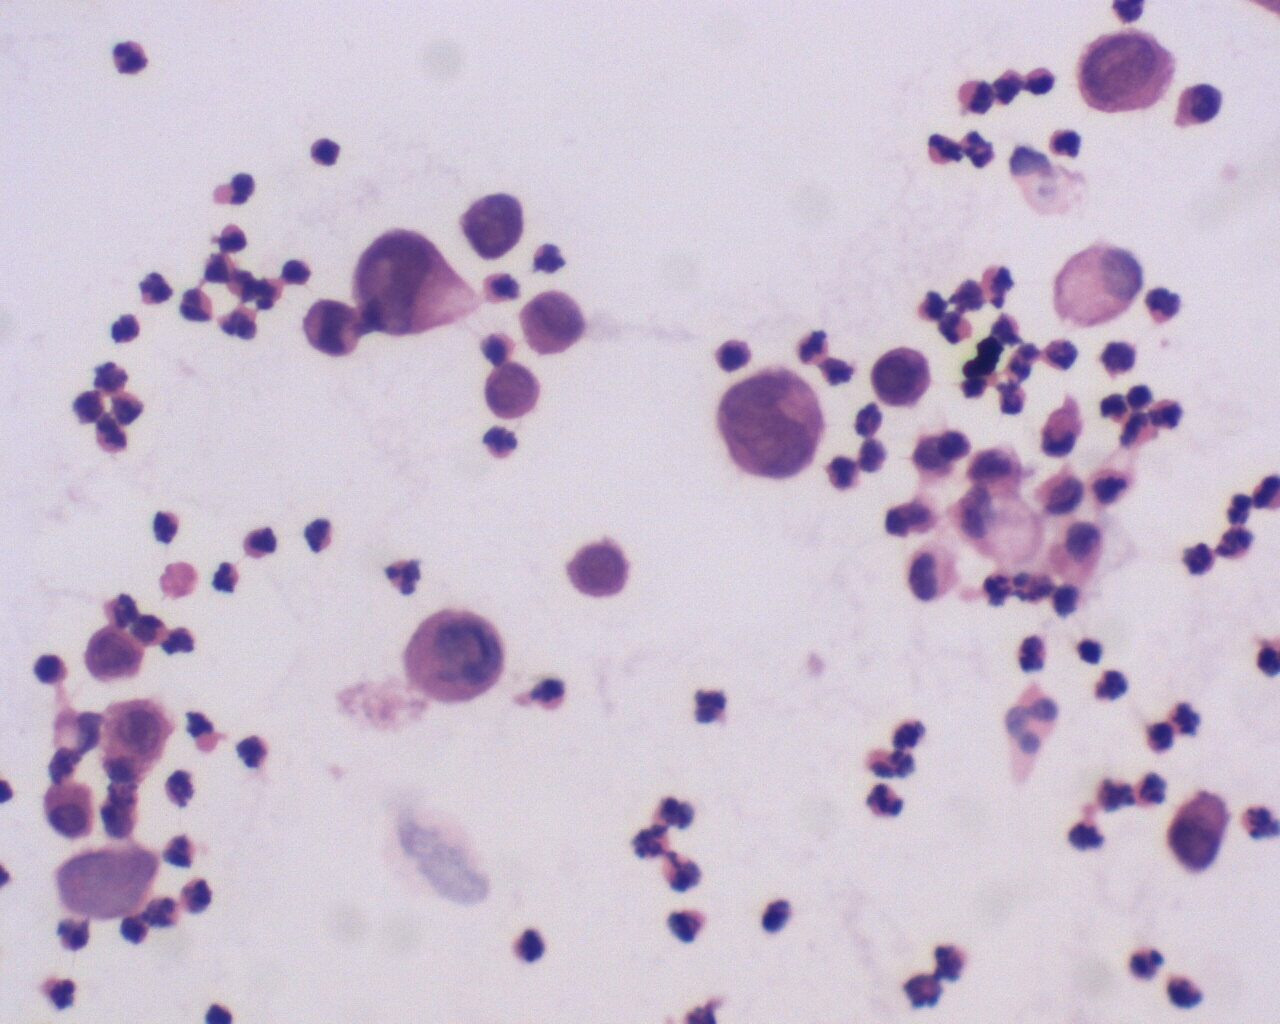ab: (715, 362, 824, 483), (353, 227, 464, 346), (399, 607, 504, 714), (1077, 27, 1176, 116), (1166, 779, 1237, 875), (517, 285, 589, 360), (459, 186, 526, 264), (565, 536, 633, 606), (869, 341, 934, 414), (82, 626, 154, 685), (478, 362, 544, 425)
histo: (1045, 231, 1145, 332)
meso: (39, 779, 99, 838)
neutro: (1045, 122, 1088, 170), (111, 37, 156, 80), (42, 970, 85, 1015), (381, 549, 422, 594), (505, 923, 548, 964), (864, 781, 910, 818), (300, 515, 340, 558), (1014, 630, 1051, 675), (937, 308, 976, 348), (137, 269, 173, 309), (209, 556, 245, 596)
